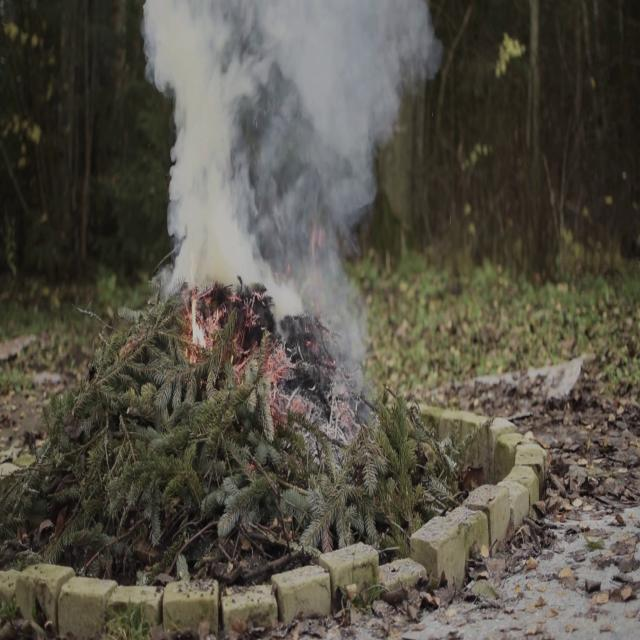Smoke: (138, 1, 432, 317)
